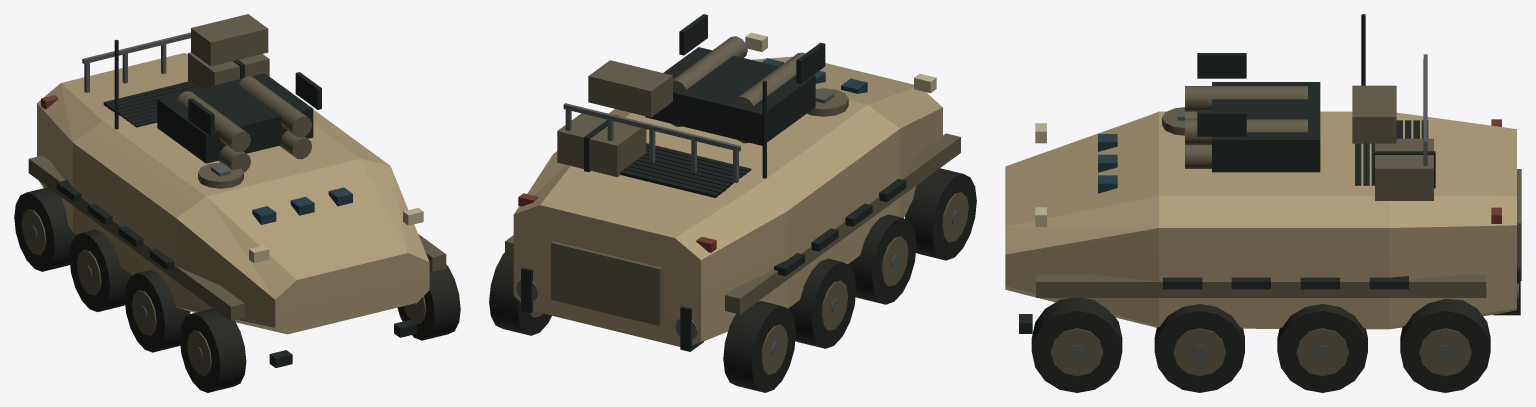
Rendered from tankDestroyer.glb.
The picture shows the model from 3 angles, left to right: view 1: azimuth 30°, elevation 25°; view 2: azimuth 150°, elevation 25°; view 3: azimuth 270°, elevation 25°; orthographic projection. The views are drawn at different scales.
Visible parts, largest first — view 1: armor, equipment (×2), glass; view 2: equipment (×2), armor, glass; view 3: armor, equipment (×2), glass.
Part boxes in pixels (x1,y1,x2,y2): armor: (37, 53, 429, 334); equipment (×2): (14, 14, 460, 392); glass: (252, 187, 352, 224); equipment (×2): (489, 14, 976, 392); armor: (513, 56, 942, 346); glass: (762, 58, 867, 93); armor: (1005, 111, 1516, 329); equipment (×2): (1019, 14, 1521, 392); glass: (1098, 134, 1117, 193).
Bounding box in the file's own units: 3.19 × 3.05 × 5.24.
